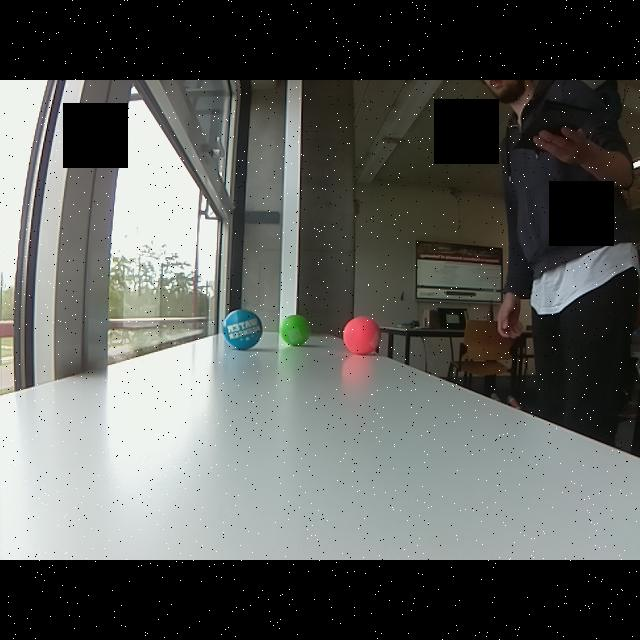ball: (340, 312, 383, 357), (278, 310, 314, 348)
